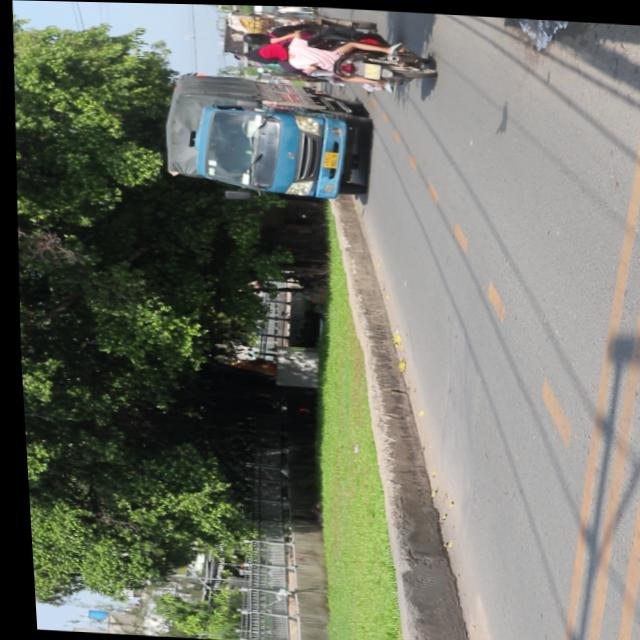licenseplate: (251, 31, 435, 93)
motorcyclist: (255, 40, 285, 62)
nohelmet: (360, 61, 380, 79)
